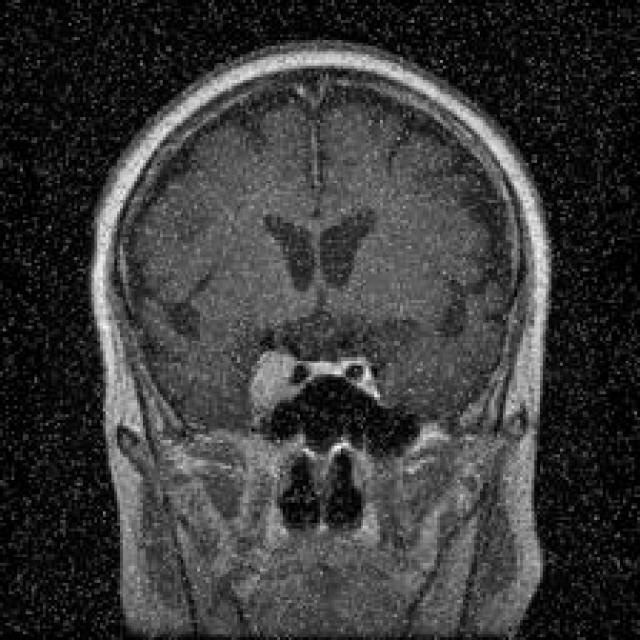meningioma_tumor: (234, 330, 336, 421)
